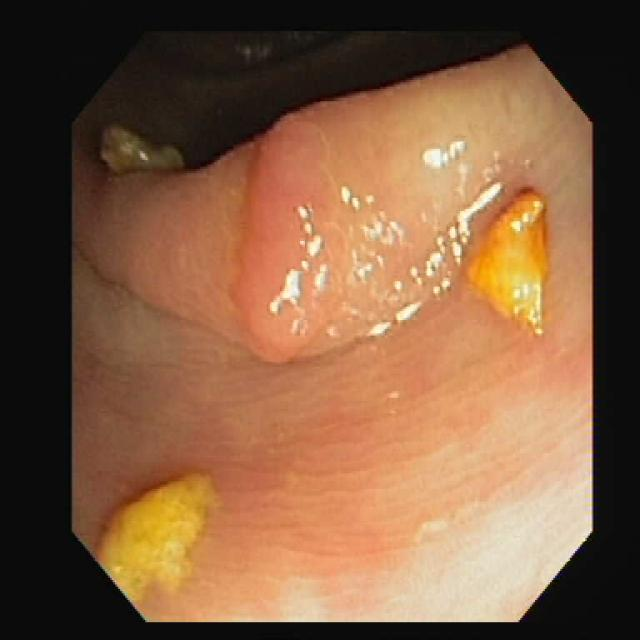tumor: (233, 113, 378, 360)
